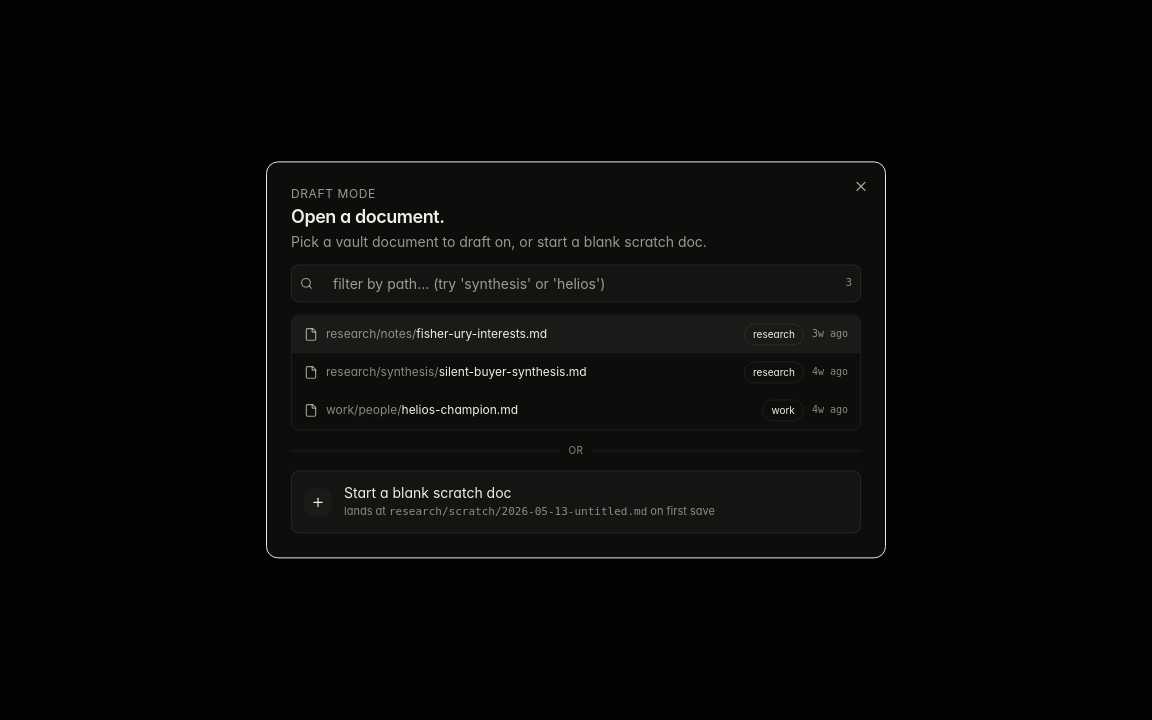
Test case: DocPickerDialog › typing into the filter input narrows the list (substring match)
Expected: the text "silent-buyer-synthesis.md" is shown, [439,364,587,379]
Expected: the text "fisher-ury-interests.md" is shown, [416,326,547,341]
Type "helios" into the field with placeholder "filter by path… (try 'synthesis' or 'helios')".
click(579, 283); type("helios")  # box [321,265,837,301]
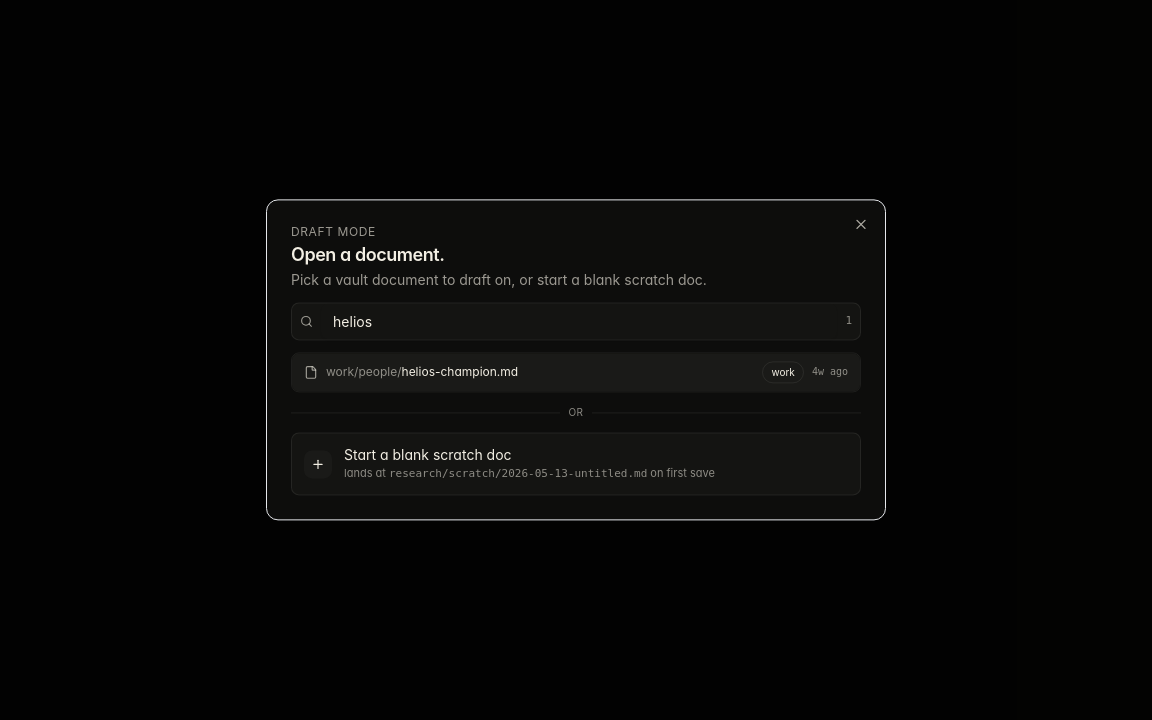
Expected: the text "helios-champion.md" is shown, [402,364,518,379]
Expected: the option "fisher-ury-interests.md" is gone
